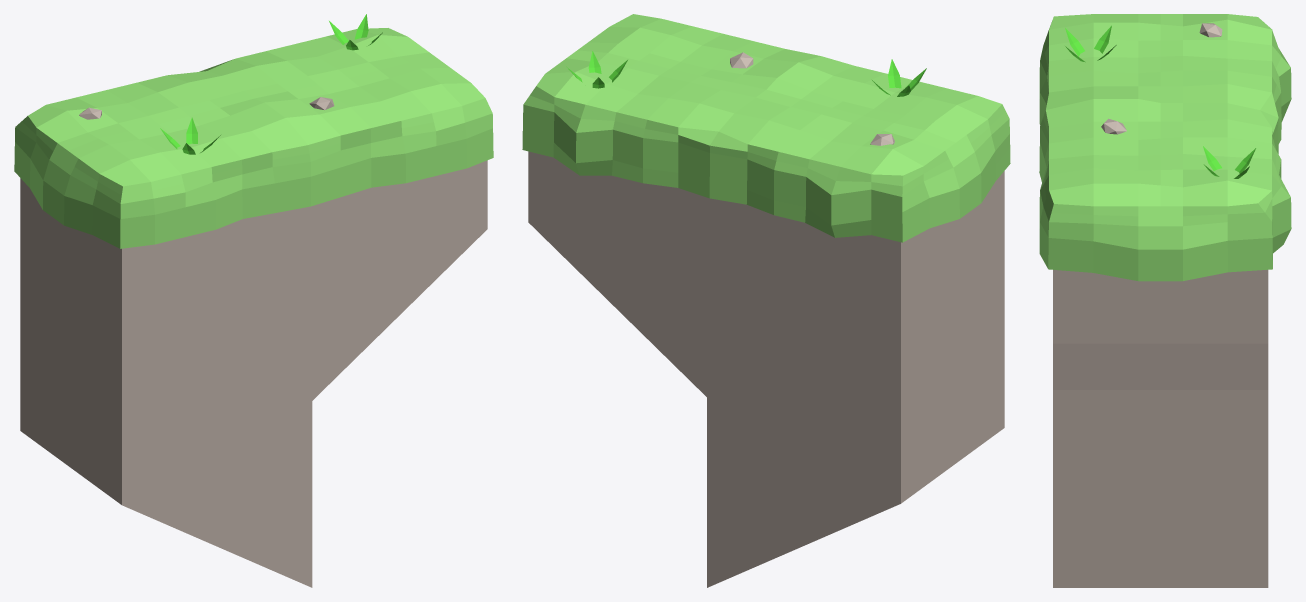
Rendered from islaDoble.fbx.
3 renders of one model, left to right at view 1: azimuth 30°, elevation 25°; view 2: azimuth 150°, elevation 25°; view 3: azimuth 270°, elevation 25°, orthographic. The views are drawn at different scales.
Parts seen in each view (by area): view 1: Cube.001; view 2: Cube.001; view 3: Cube.001.
Boxes of the visible parts, box(x1,y1,x2,y2) form: Cube.001: box(14, 14, 493, 587); Cube.001: box(522, 14, 1010, 587); Cube.001: box(1039, 14, 1291, 587).
Size of the model in its own units: 456 by 510 by 234.
